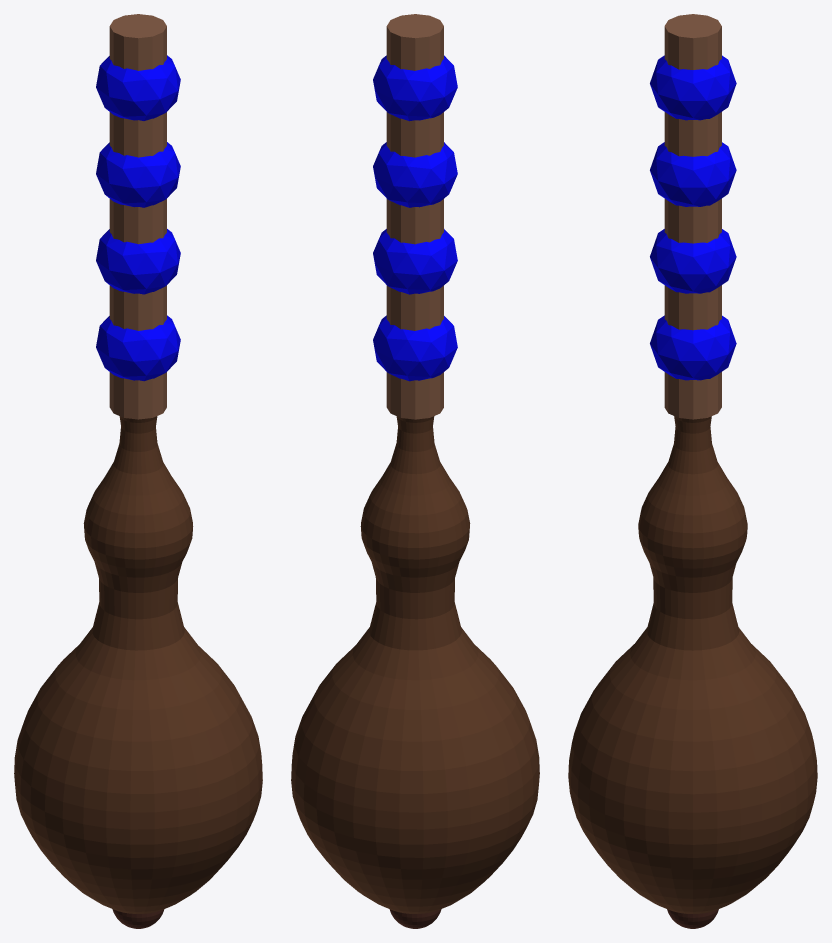
The model's file is Wand 633.glb.
3 views of the same model, side by side, from view 1: azimuth 30°, elevation 25°; view 2: azimuth 150°, elevation 25°; view 3: azimuth 270°, elevation 25° (orthographic).
Parts seen in each view (by area): view 1: GeneratedWand; view 2: GeneratedWand; view 3: GeneratedWand.
Part boxes in pixels (bbox=[...]): GeneratedWand: bbox=[14, 14, 262, 928]; GeneratedWand: bbox=[291, 14, 539, 928]; GeneratedWand: bbox=[568, 14, 817, 928].
Size of the model in its own units: 0.123 by 0.4899 by 0.123.
